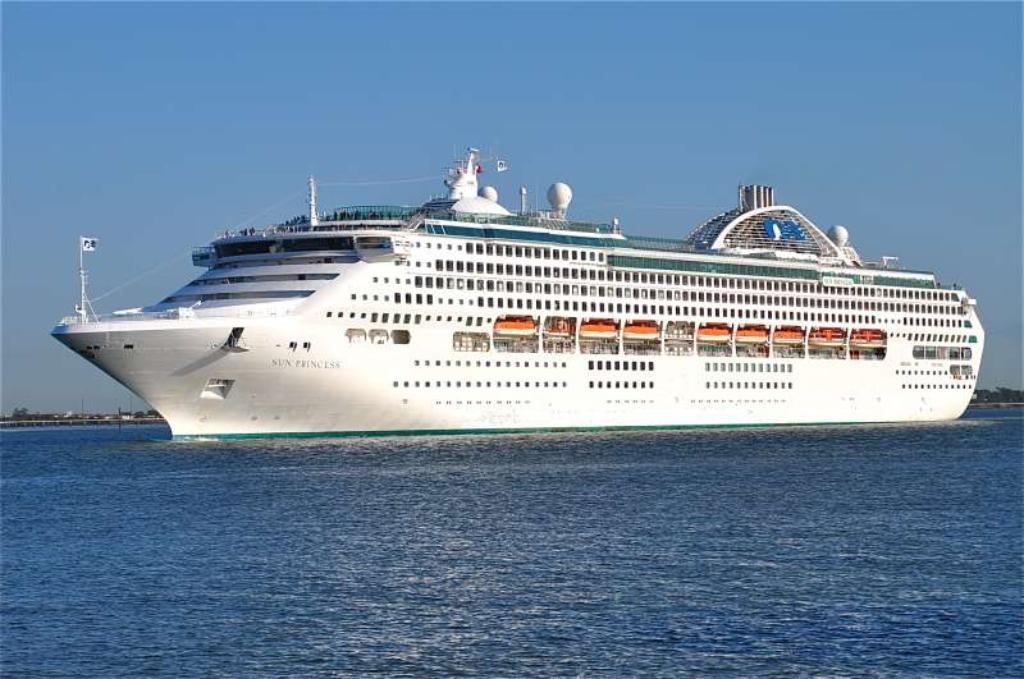PassengerShip: (43, 140, 987, 446)
